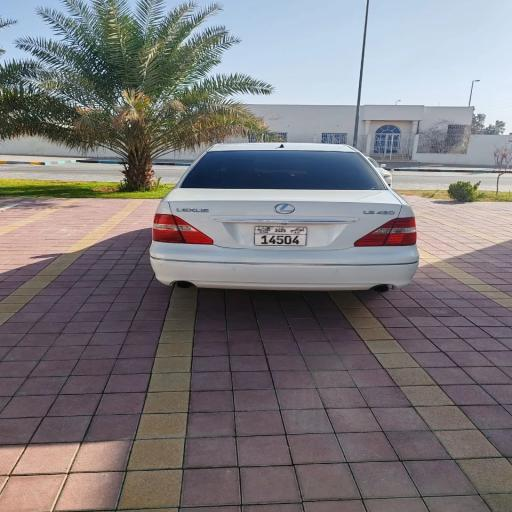license-plates: (254, 226, 307, 246)
